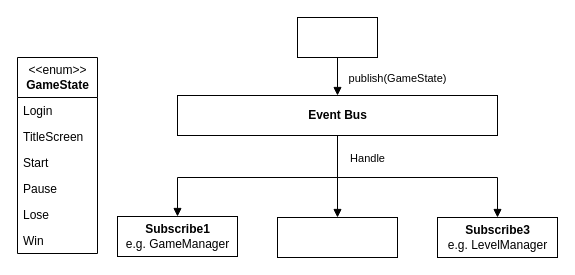
Image size: 575x275. Some labels were removed from this diagram. The centre of each missing label's shape, as x and y in pixels:
"Publisher" belongs at (337,37).
"Subscribe2 e.g. PropsManager" belongs at (337,237).
